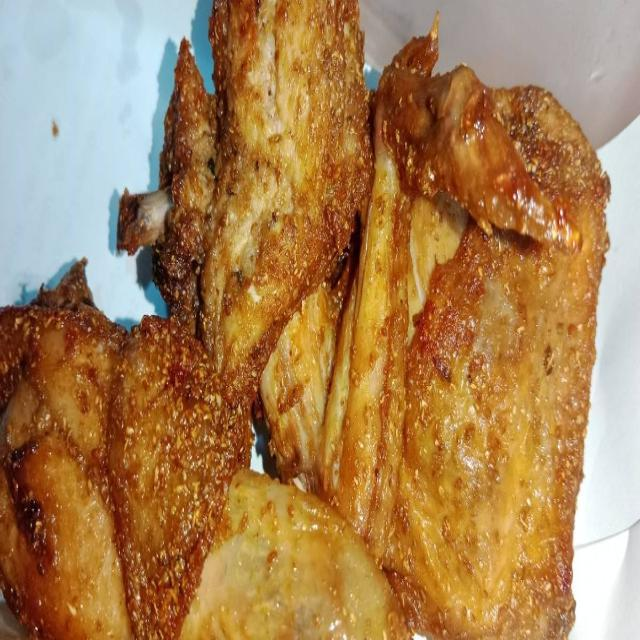ayam_goreng: (12, 27, 616, 596)
